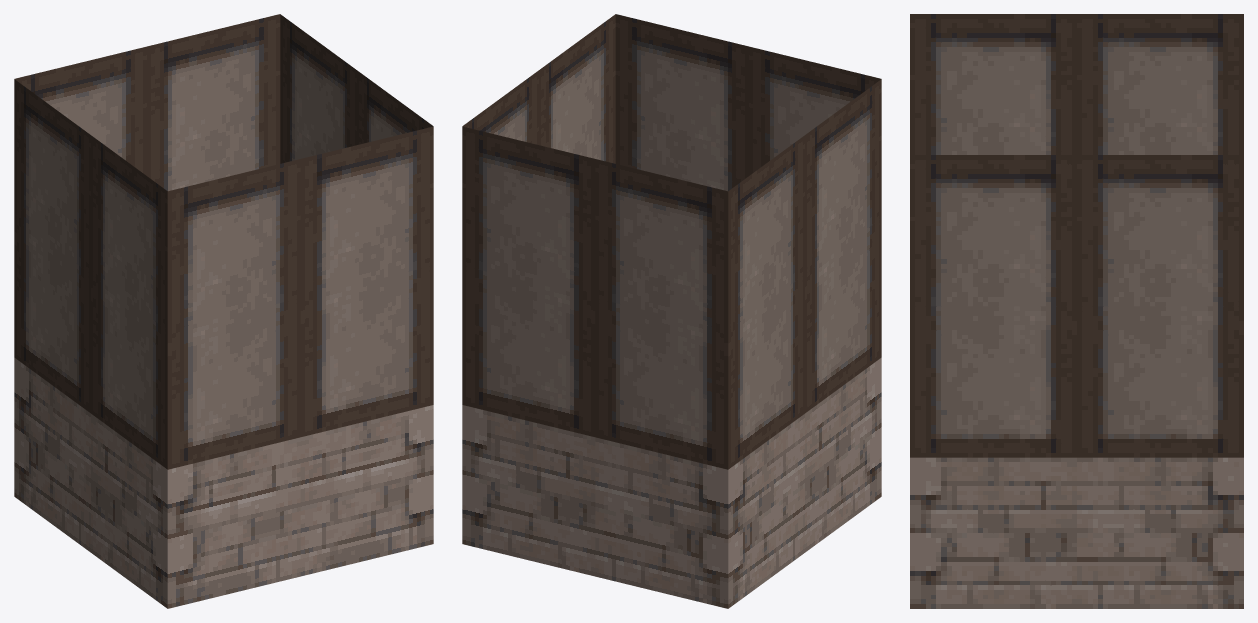
The model's file is plaster_wall_stone_base_half.glb.
3 views of the same model, side by side, from view 1: azimuth 30°, elevation 25°; view 2: azimuth 150°, elevation 25°; view 3: azimuth 270°, elevation 25° (orthographic). The views are drawn at different scales.
Visible parts, largest first — view 1: plaster_wall_stone_base_half; view 2: plaster_wall_stone_base_half; view 3: plaster_wall_stone_base_half.
Part boxes in pixels (x1,y1,x2,y2): plaster_wall_stone_base_half: (14,14,433,608); plaster_wall_stone_base_half: (462,14,881,608); plaster_wall_stone_base_half: (910,14,1243,608).
Bounding box in the file's own units: 2.5 × 3.75 × 2.5.
Materials: 1 (1 with a texture image).
